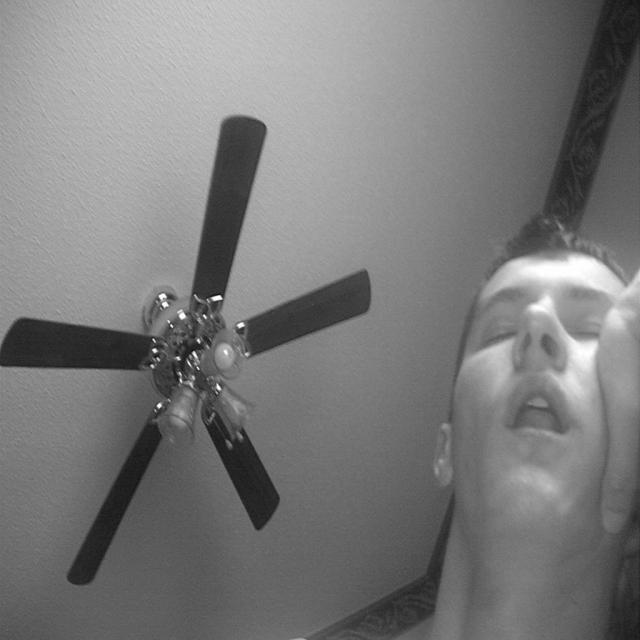bulb_off: (211, 339, 237, 369), (167, 406, 192, 430)
fan_off: (6, 110, 376, 584)
